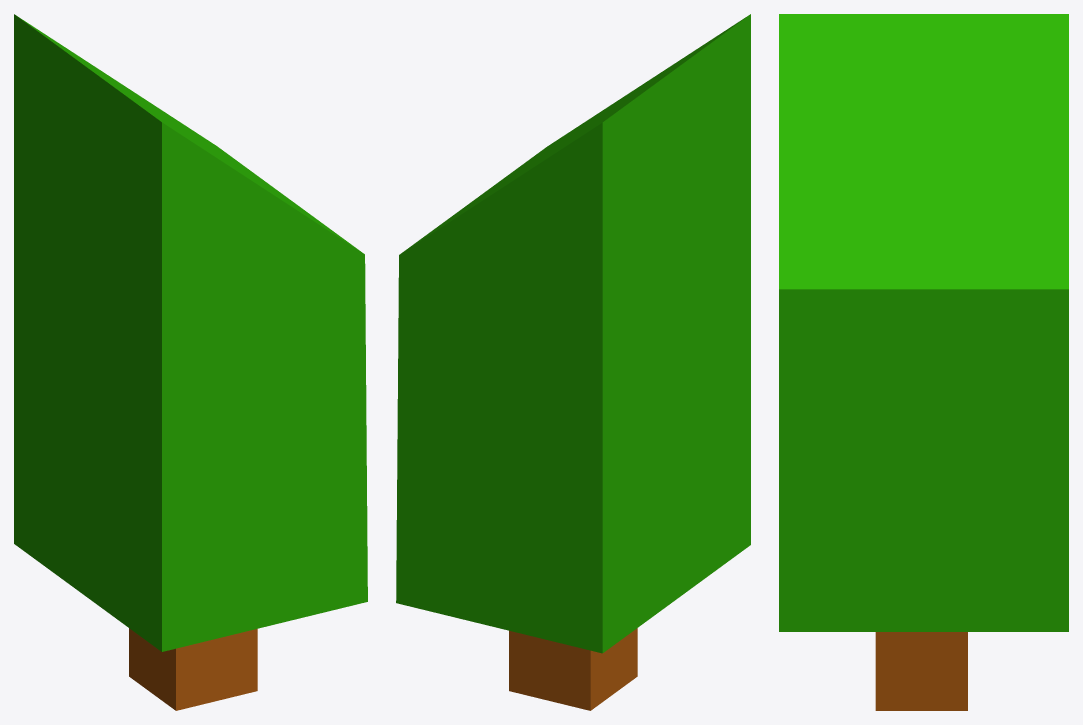
File: tree.glb
The picture shows the model from 3 angles, left to right: view 1: azimuth 30°, elevation 25°; view 2: azimuth 150°, elevation 25°; view 3: azimuth 270°, elevation 25°; orthographic projection. The views are drawn at different scales.
Visible parts, largest first — view 1: Cube.001, Cube; view 2: Cube.001, Cube; view 3: Cube.001, Cube.
Boxes of the visible parts, box(x1,y1,x2,y2) form: Cube.001: box(14, 14, 367, 651); Cube: box(129, 628, 257, 710); Cube.001: box(396, 14, 750, 653); Cube: box(509, 628, 637, 710); Cube.001: box(779, 14, 1068, 631); Cube: box(875, 632, 967, 710).
Size of the model in its own units: 5.05 by 15 by 6.28.
